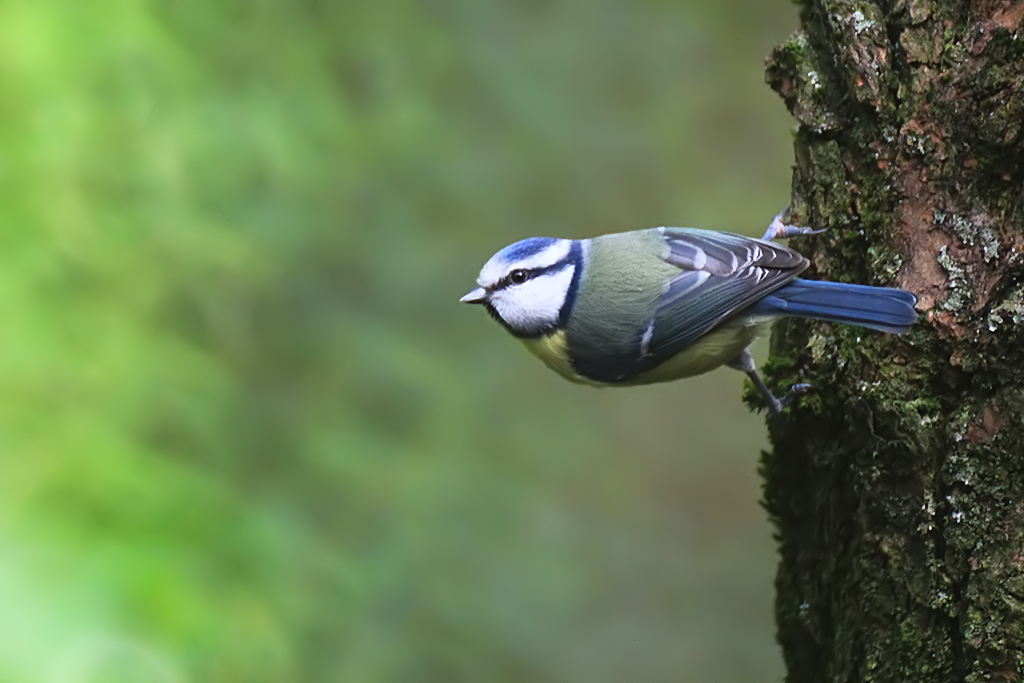Tree: (734, 0, 1024, 679)
